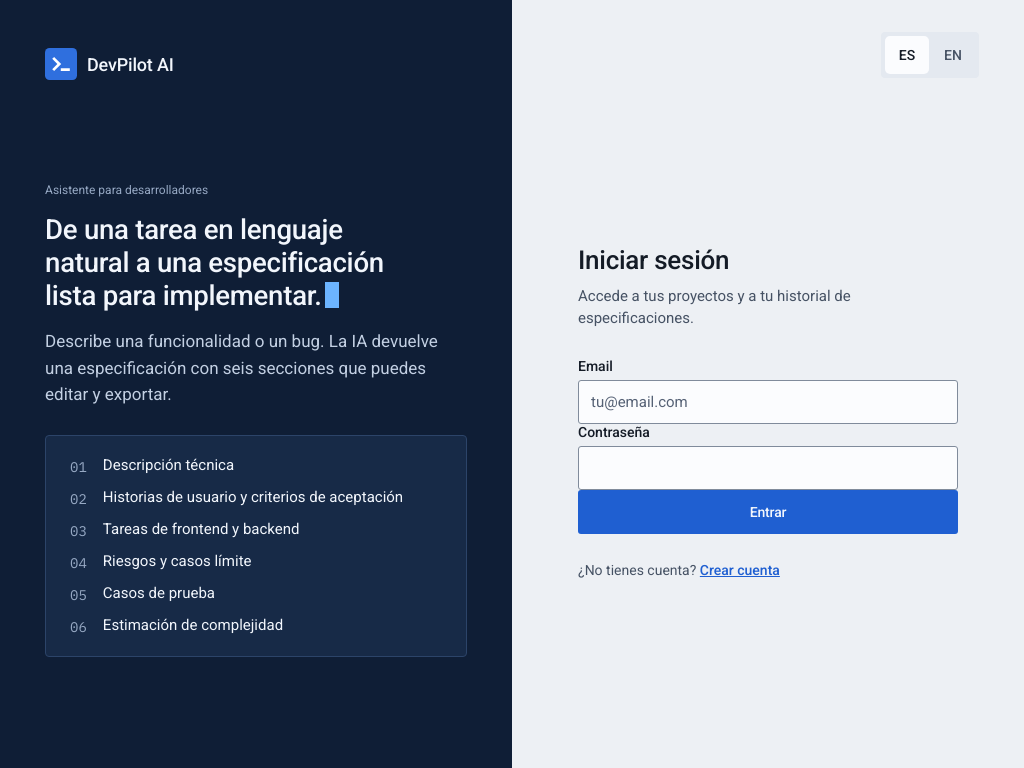
Test: routes without a session › lets the visitor go from login to registration and back
Click the link "Crear cuenta".
click(740, 570)  # box x1=700 y1=562 x2=780 y2=578
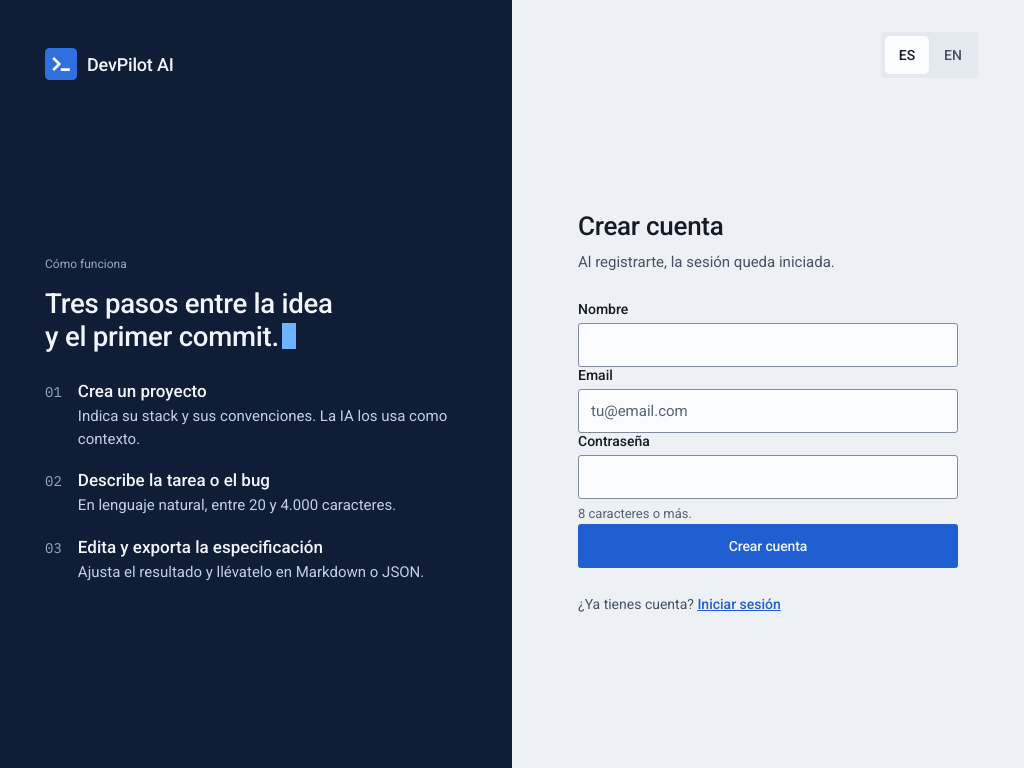
expect the heading "Crear cuenta" is shown: met, box x1=578 y1=211 x2=724 y2=241
Click the link "Iniciar sesión".
click(739, 604)  # box x1=697 y1=596 x2=781 y2=612
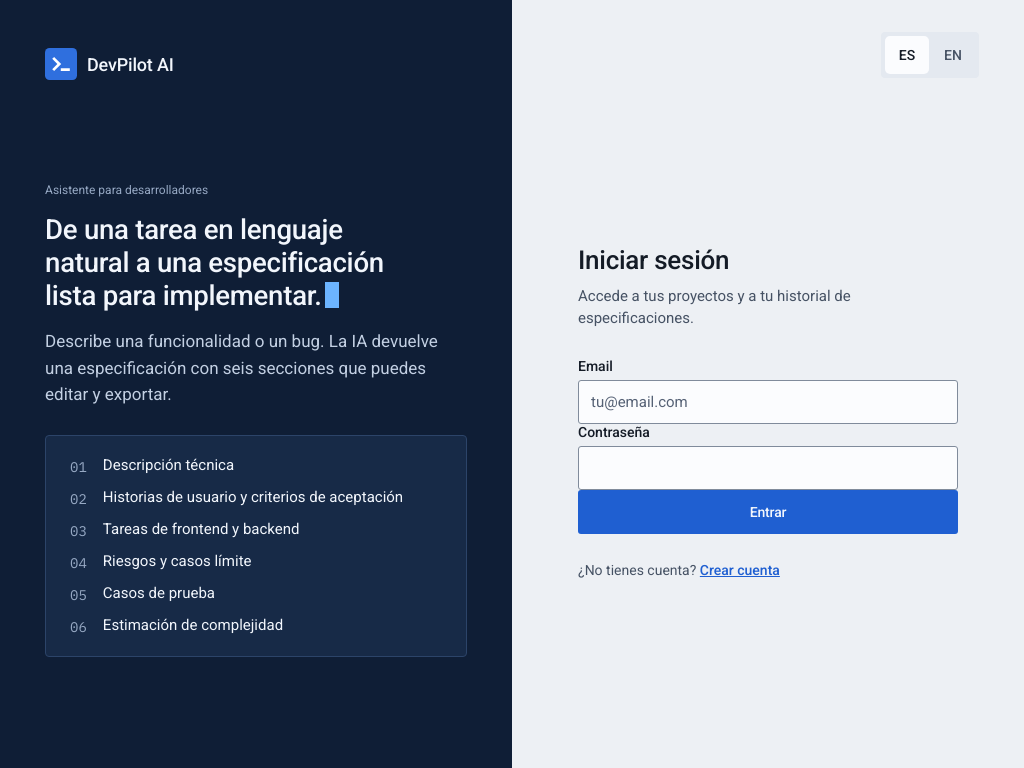
expect the heading "Iniciar sesión" is shown: met, box x1=578 y1=245 x2=729 y2=275
